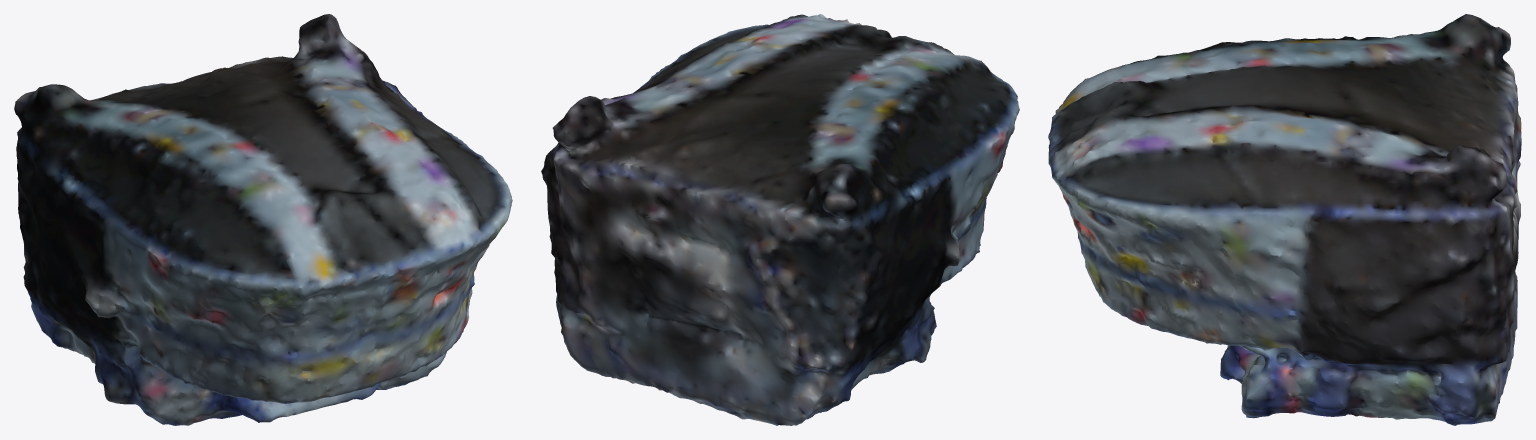
Rendered from backpack.glb.
3 renders of one model, left to right at view 1: azimuth 30°, elevation 25°; view 2: azimuth 150°, elevation 25°; view 3: azimuth 270°, elevation 25°, orthographic. The views are drawn at different scales.
Bounding box in the file's own units: 0.9009 × 0.6691 × 0.9941.
